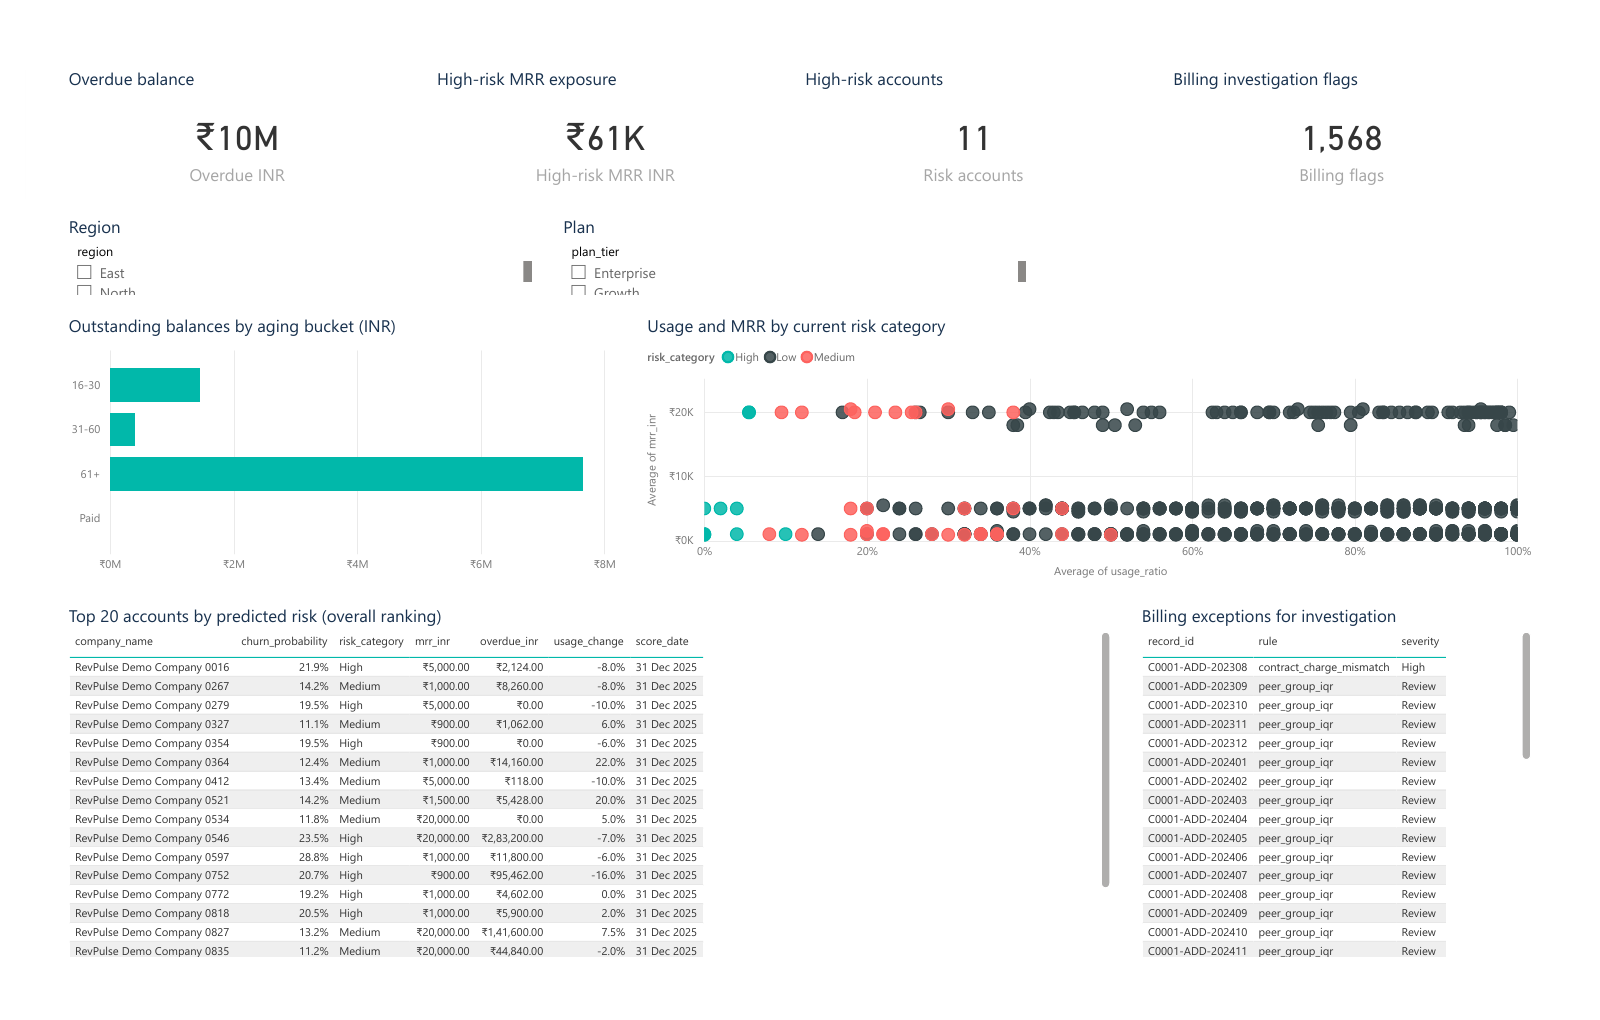

What the dashboard file says about the page in this screenshot:
{"tool":"powerbi","page":{"name":"Collections and retention actions","canvas":[1440,900],"ordinal":1},"visuals":[{"type":"card","title":"Overdue balance","fields":{"Values":["CustomerMonth.Overdue INR"]},"box":[20,20,330,130],"z":0},{"type":"card","title":"High-risk MRR exposure","fields":{"Values":["CustomerMonth.High-risk MRR INR"]},"box":[370,20,330,130],"z":0},{"type":"card","title":"High-risk accounts","fields":{"Values":["CustomerMonth.Risk accounts"]},"box":[720,20,330,130],"z":0},{"type":"card","title":"Billing investigation flags","fields":{"Values":["CustomerMonth.Billing flags"]},"box":[1070,20,330,130],"z":0},{"type":"slicer","title":"Region","fields":{"Values":["Customers.region"]},"box":[20,160,450,80],"z":0},{"type":"slicer","title":"Plan","fields":{"Values":["Plans.plan_tier"]},"box":[490,160,450,80],"z":0},{"type":"clusteredBarChart","title":"Outstanding balances by aging bucket (INR)","fields":{"Category":["Invoices.aging_bucket"],"Y":["CustomerMonth.Outstanding INR"]},"box":[20,255,530,255],"z":0},{"type":"scatterChart","title":"Usage and MRR by current risk category","fields":{"Category":["Risk.company_name"],"Series":["Risk.risk_category"],"X":["Risk.usage_ratio"],"Y":["Risk.mrr_inr"]},"box":[570,255,850,255],"z":0},{"type":"tableEx","title":"Top 20 accounts by predicted risk (overall ranking)","fields":{"Values":["TopRisk.company_name","TopRisk.churn_probability","TopRisk.risk_category","TopRisk.mrr_inr","TopRisk.overdue_inr","TopRisk.usage_change","TopRisk.score_date"]},"box":[20,530,1000,340],"z":0},{"type":"tableEx","title":"Billing exceptions for investigation","fields":{"Values":["Anomalies.record_id","Anomalies.rule","Anomalies.severity"]},"box":[1040,530,380,340],"z":0}]}

Visuals, with their boxes in screenshot pixels (x1, y1, x2, y2), scaled from the page's 1440x900 canvas onto the 1600x1020 screenshot:
"Overdue balance" card: {"left": 22, "top": 23, "right": 389, "bottom": 170}
"High-risk MRR exposure" card: {"left": 411, "top": 23, "right": 778, "bottom": 170}
"High-risk accounts" card: {"left": 800, "top": 23, "right": 1167, "bottom": 170}
"Billing investigation flags" card: {"left": 1189, "top": 23, "right": 1556, "bottom": 170}
"Region" slicer: {"left": 22, "top": 181, "right": 522, "bottom": 272}
"Plan" slicer: {"left": 544, "top": 181, "right": 1044, "bottom": 272}
"Outstanding balances by aging bucket (INR)" clusteredBarChart: {"left": 22, "top": 289, "right": 611, "bottom": 578}
"Usage and MRR by current risk category" scatterChart: {"left": 633, "top": 289, "right": 1578, "bottom": 578}
"Top 20 accounts by predicted risk (overall ranking)" tableEx: {"left": 22, "top": 601, "right": 1133, "bottom": 986}
"Billing exceptions for investigation" tableEx: {"left": 1156, "top": 601, "right": 1578, "bottom": 986}
